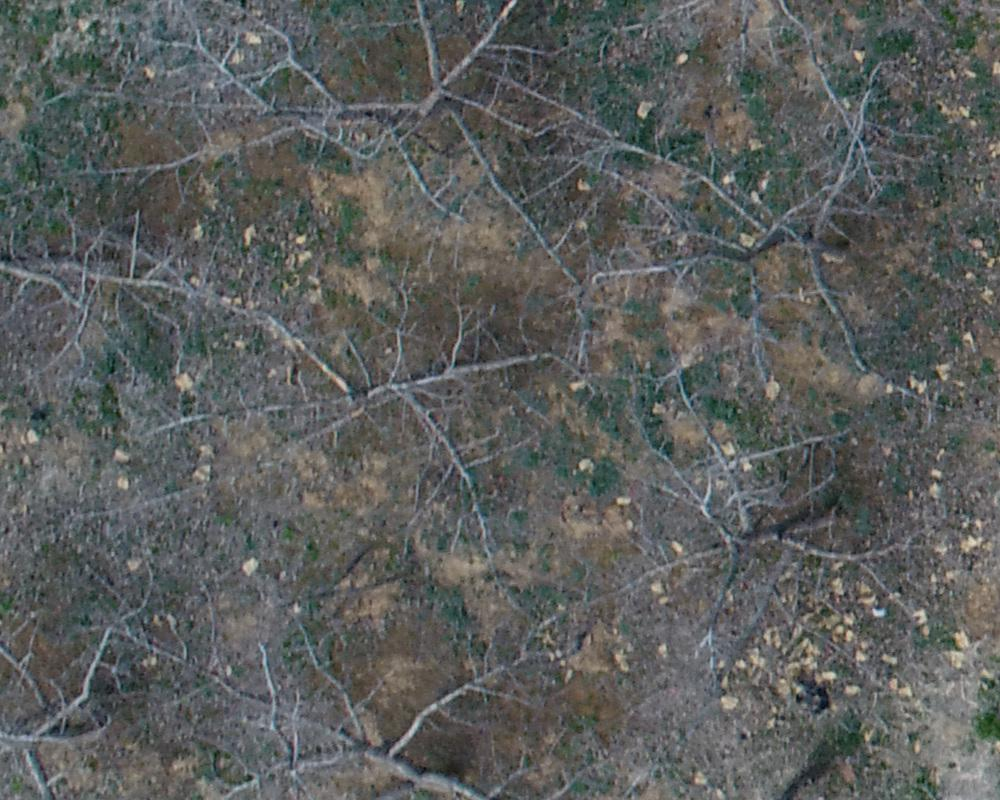apple: (128, 10, 582, 277), (548, 107, 935, 410), (219, 294, 572, 556), (582, 382, 922, 650), (141, 632, 651, 790)
